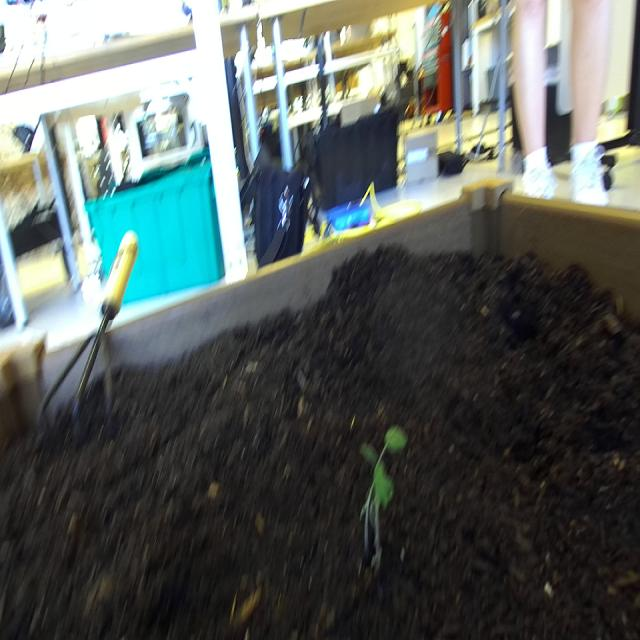Healthy: (348, 410, 409, 580)
